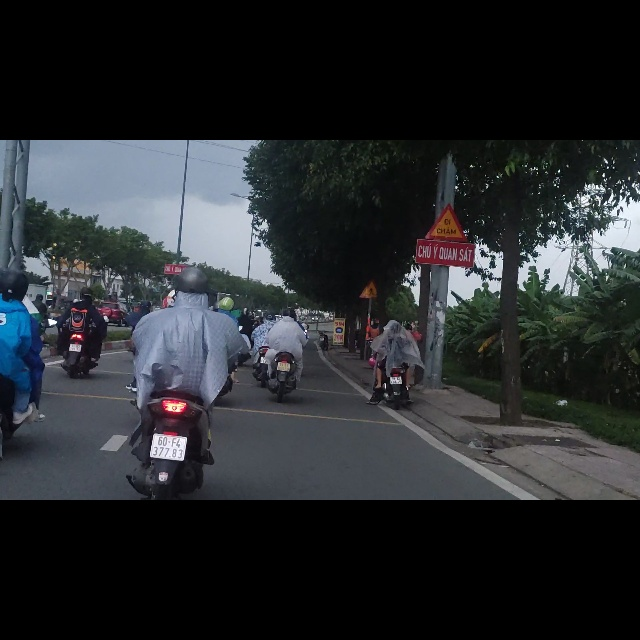bien_nguy_hiem: (426, 114, 468, 180), (359, 247, 380, 280)
